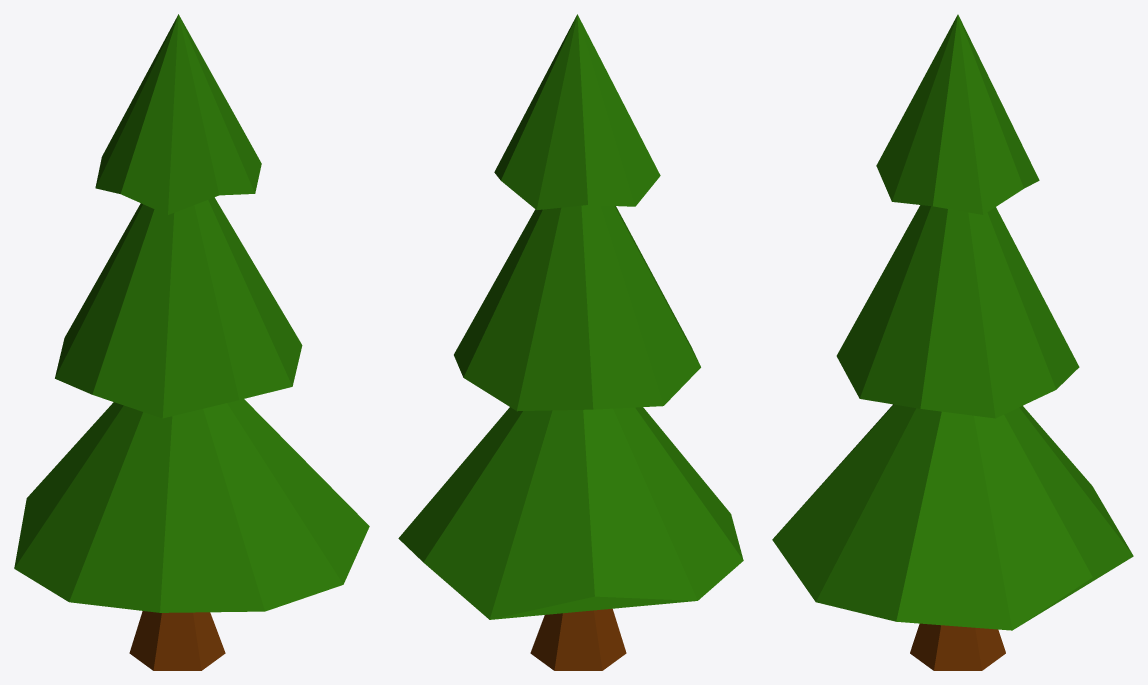
The model's file is Tree.fbx.
3 renders of one model, left to right at view 1: azimuth 30°, elevation 25°; view 2: azimuth 150°, elevation 25°; view 3: azimuth 270°, elevation 25°, orthographic.
Visible parts, largest first — view 1: Bottom Tree; view 2: Bottom Tree; view 3: Bottom Tree.
Part boxes in pixels (x1=…): Bottom Tree: x1=14, y1=14, x2=369, y2=670; Bottom Tree: x1=398, y1=14, x2=743, y2=670; Bottom Tree: x1=772, y1=14, x2=1133, y2=670.
Size of the model in its own units: 424 by 854 by 438.
